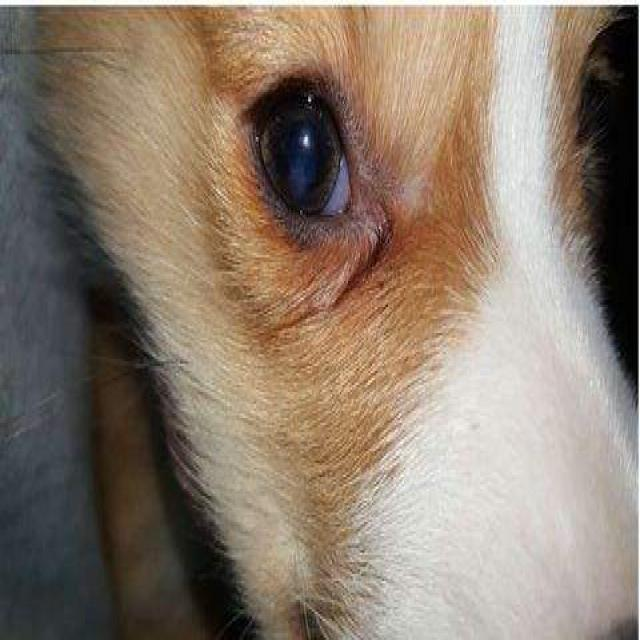eye: (251, 68, 364, 240)
